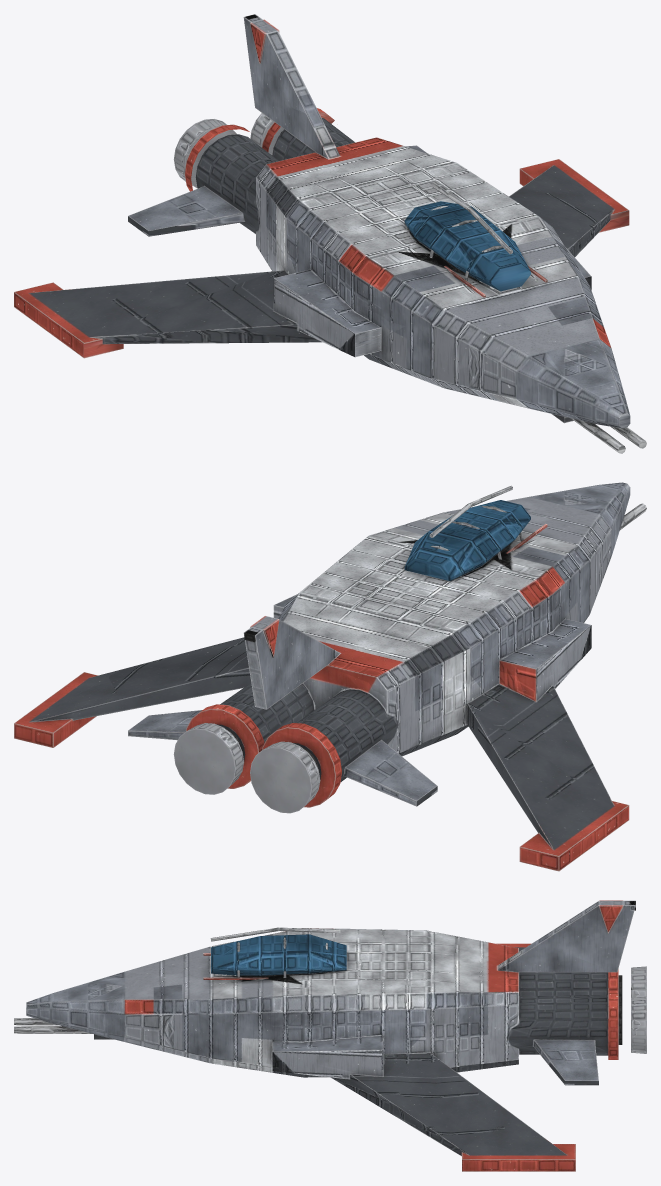
File: sd_ship_sahin.glb
The picture shows the model from 3 angles, top to bottom: view 1: azimuth 30°, elevation 25°; view 2: azimuth 150°, elevation 25°; view 3: azimuth 270°, elevation 25°; orthographic projection. The views are drawn at different scales.
Parts seen in each view (by area): view 1: LOD0_body, LOD1_body; view 2: LOD0_body, LOD1_body; view 3: LOD0_body, LOD1_body.
Part boxes in pixels (x1=…): LOD0_body: x1=14, y1=14, x2=646, y2=453; LOD1_body: x1=14, y1=15, x2=618, y2=431; LOD0_body: x1=14, y1=482, x2=646, y2=871; LOD1_body: x1=24, y1=484, x2=622, y2=855; LOD0_body: x1=14, y1=900, x2=646, y2=1171; LOD1_body: x1=86, y1=902, x2=635, y2=1156.
Size of the model in its own units: 0.8074 by 0.2802 by 1.
1 material, 1 textured.
